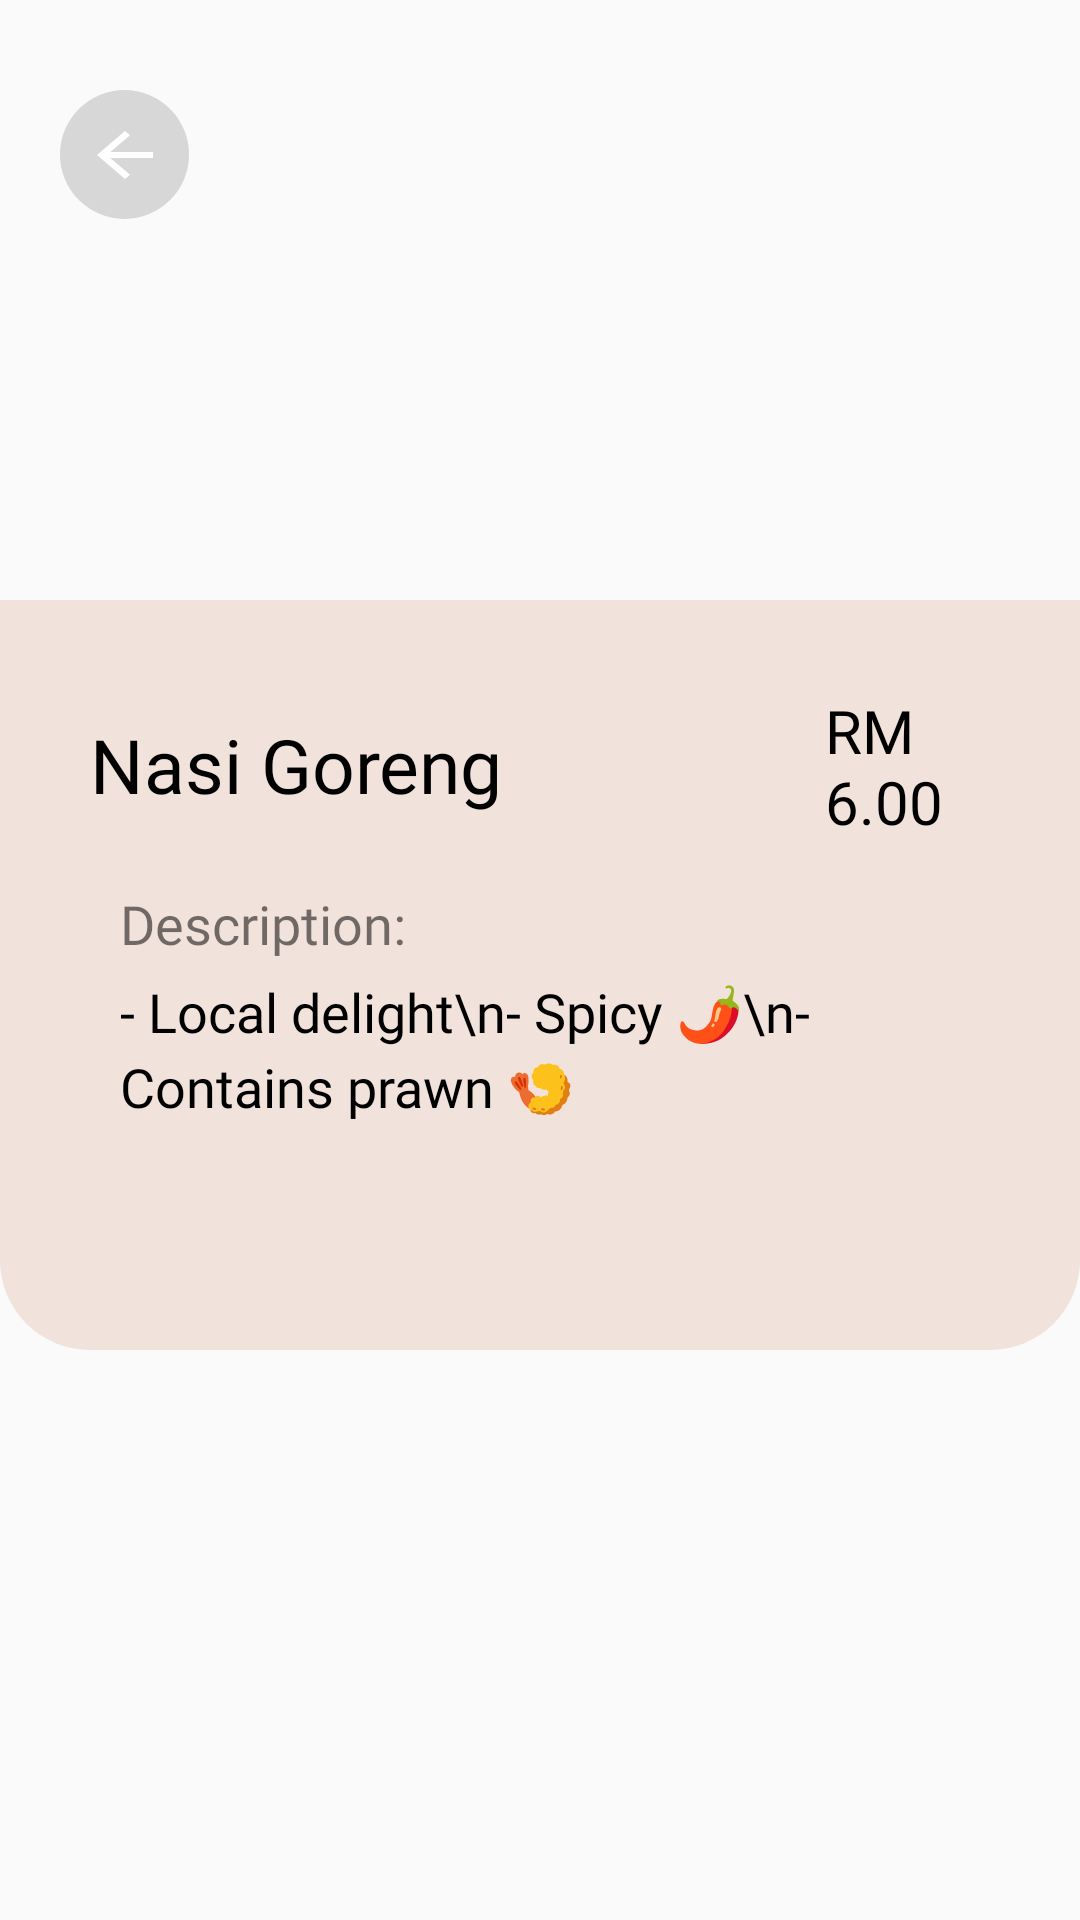

Icons on this 1080w x 1920h Android screen, each with its box as (x1, y1, x2, y2):
back: (60, 90, 189, 219)
